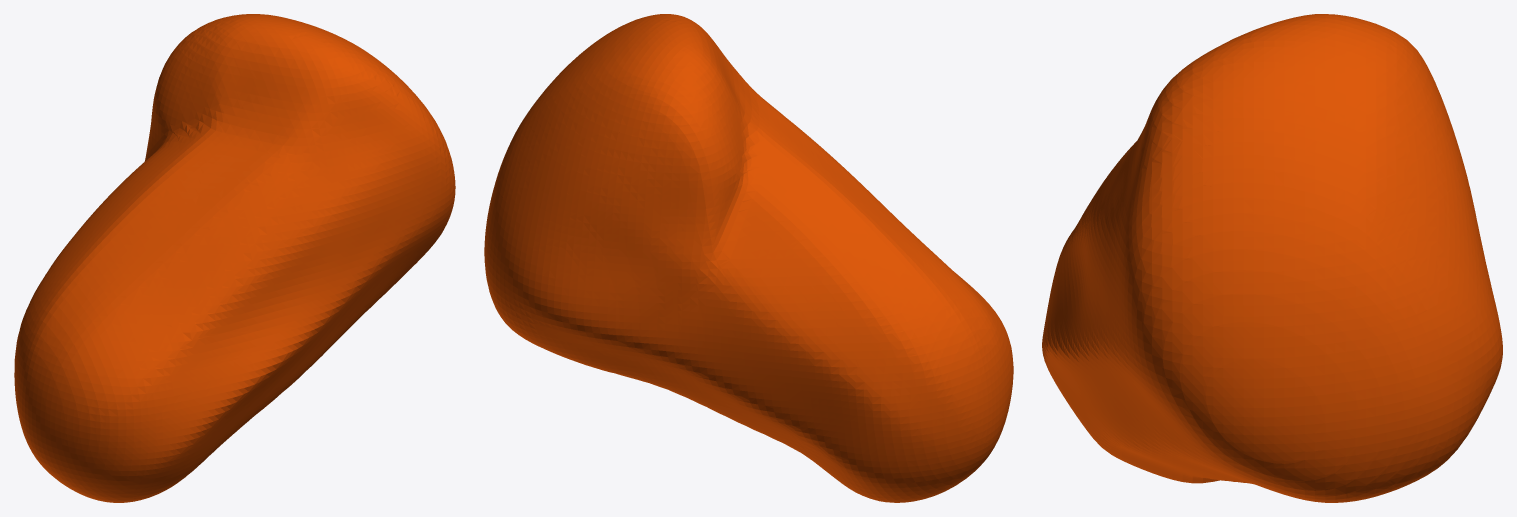
The model's file is hand_part_14.glb.
The picture shows the model from 3 angles, left to right: view 1: azimuth 30°, elevation 25°; view 2: azimuth 150°, elevation 25°; view 3: azimuth 270°, elevation 25°; orthographic projection. The views are drawn at different scales.
Size of the model in its own units: 0.0403 by 0.0362 by 0.0263.
